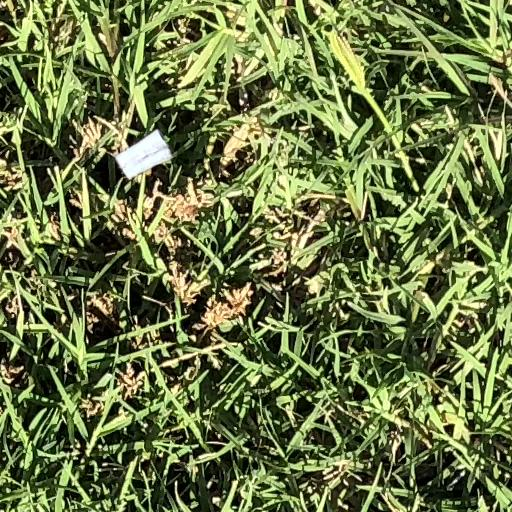smoke: (116, 130, 171, 179)
